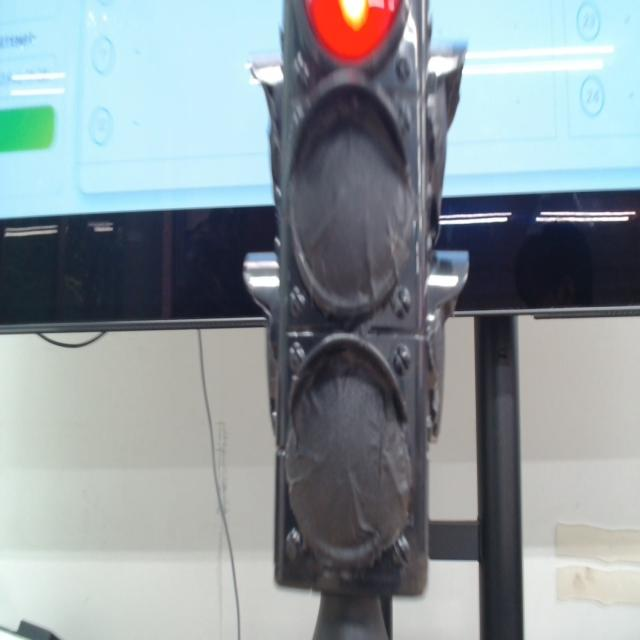red_light: (305, 0, 401, 62)
